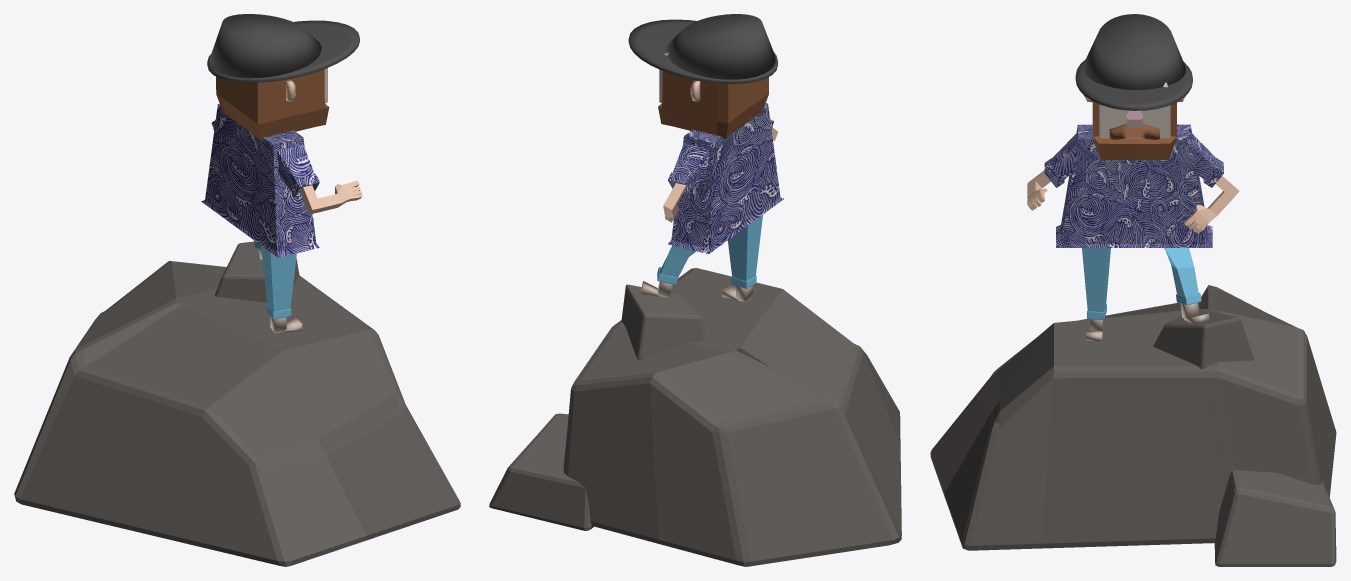
File: BONHOMME BLEU2.glb
The picture shows the model from 3 angles, left to right: view 1: azimuth 30°, elevation 25°; view 2: azimuth 150°, elevation 25°; view 3: azimuth 270°, elevation 25°; orthographic projection. The views are drawn at different scales.
Visible parts, largest first — view 1: rocher Principal, corps, Cylinder.001, Cube, Cylinder, roche haut, jambe D, Epaule D, bras d; view 2: rocher Principal, corps, rocher bas, Cylinder.001, Cube, roche haut, Cylinder, jambe D, epaule G, jambe G; view 3: rocher Principal, corps, rocher bas, Cylinder.001, roche haut, Cube, Cylinder, jambe D, jambe G, bras g, Epaule D, epaule G (+2 smaller).
Part boxes in pixels (x1,y1,x2,y2): rocher Principal: (14,261,460,566); corps: (201,104,319,257); Cylinder.001: (209,14,321,78); Cube: (216,53,329,140); Cylinder: (207,20,359,82); roche haut: (215,241,299,302); jambe D: (261,245,296,319); Epaule D: (277,144,319,197); bras d: (299,180,361,214); rocher Principal: (563,268,901,566); corps: (668,103,783,254); rocher bas: (489,413,593,530); Cylinder.001: (666,14,775,79); Cube: (658,52,768,139); roche haut: (621,284,705,360); Cylinder: (628,19,778,83); jambe D: (728,215,762,288); epaule G: (668,143,709,194); jambe G: (657,245,695,284); rocher Principal: (930,285,1336,550); corps: (1056,124,1212,247); rocher bas: (1214,470,1336,566); Cylinder.001: (1082,14,1185,89); roche haut: (1153,308,1253,369); Cube: (1092,82,1176,159); Cylinder: (1075,59,1192,110); jambe D: (1082,248,1110,319); jambe G: (1164,248,1201,305); bras g: (1184,176,1239,233); Epaule D: (1044,133,1076,187); epaule G: (1191,133,1223,187).
Bounding box in the file's own units: 4.65 × 5.74 × 4.53.
Materials: 11 (1 with a texture image).
